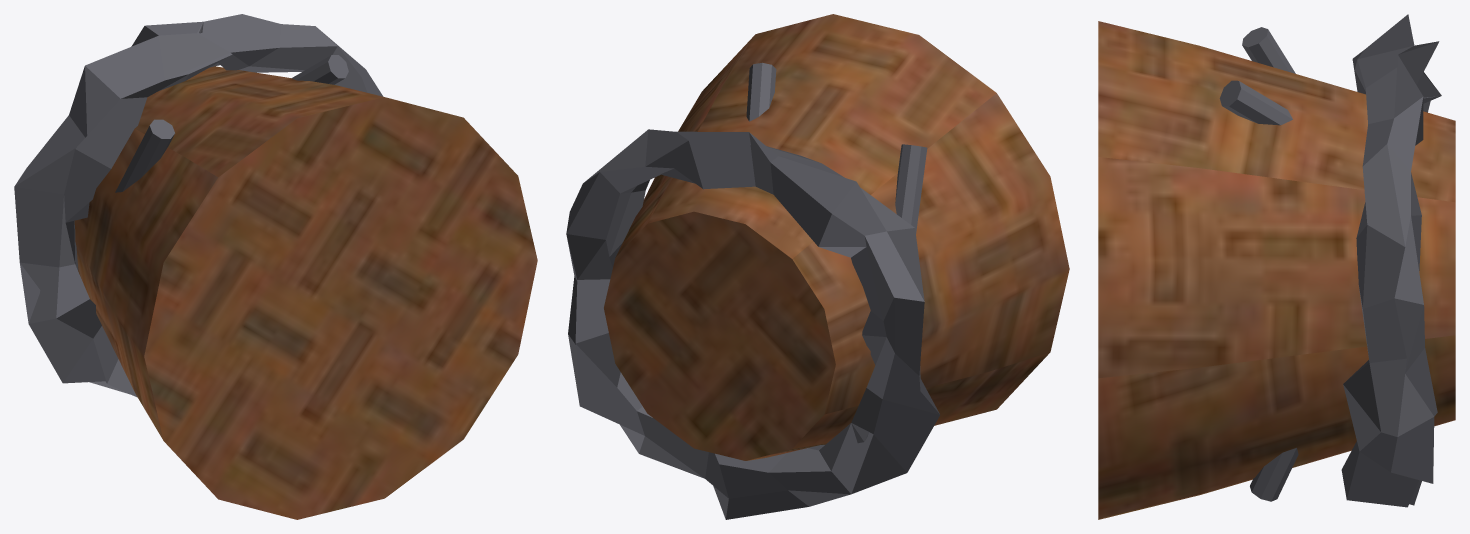
Rendered from debris_engine_section.glb.
3 renders of one model, left to right at view 1: azimuth 30°, elevation 25°; view 2: azimuth 150°, elevation 25°; view 3: azimuth 270°, elevation 25°, orthographic. The views are drawn at different scales.
Visible parts, largest first — view 1: EngineSection; view 2: EngineSection; view 3: EngineSection.
Part boxes in pixels (x1,y1,x2,y2): EngineSection: [14, 14, 537, 519]; EngineSection: [566, 14, 1069, 519]; EngineSection: [1098, 14, 1455, 519].
Size of the model in its own units: 4 by 3.92 by 2.8.
Materials: 2 (1 with a texture image).
